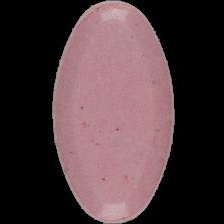63629-4017: (0, 0, 224, 224)
